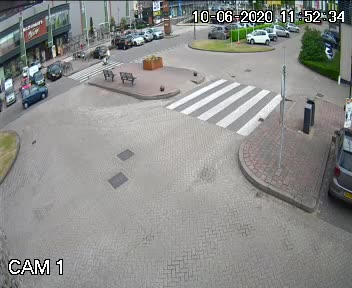car: (16, 81, 55, 106)
